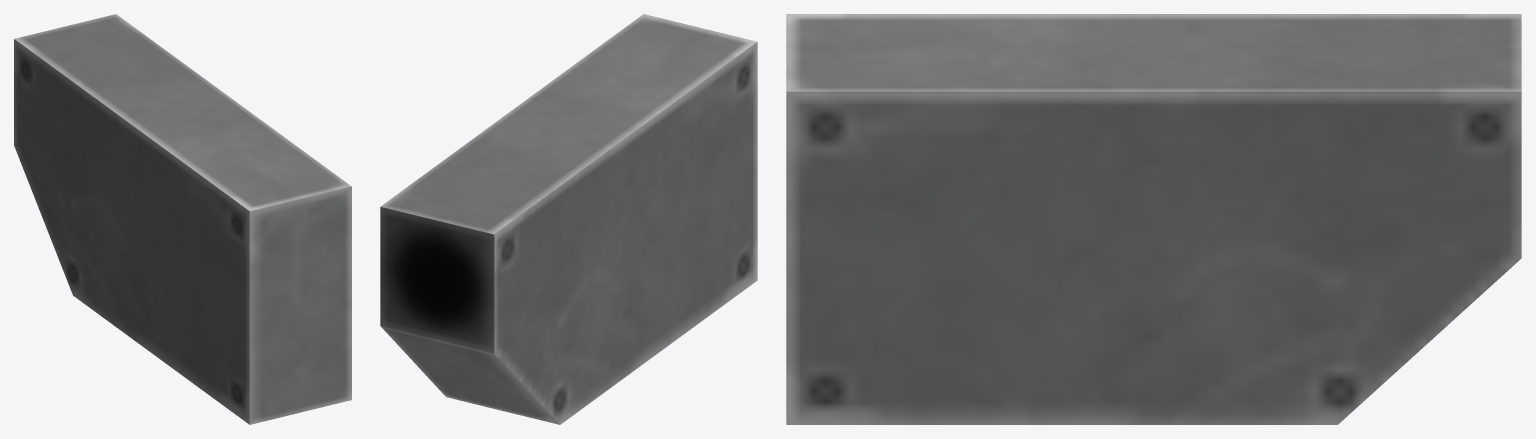
Rendered from sar base.obj.
3 renders of one model, left to right at view 1: azimuth 30°, elevation 25°; view 2: azimuth 150°, elevation 25°; view 3: azimuth 270°, elevation 25°, orthographic. The views are drawn at different scales.
Visible parts, largest first — view 1: 2; view 2: 2; view 3: 2.
Boxes of the visible parts, x1,y1,x2,y2 form: 2: [14, 14, 351, 424]; 2: [380, 14, 757, 424]; 2: [786, 14, 1521, 424].
Bounding box in the file's own units: 0.075 × 0.15 × 0.3.
1 material, 1 textured.
